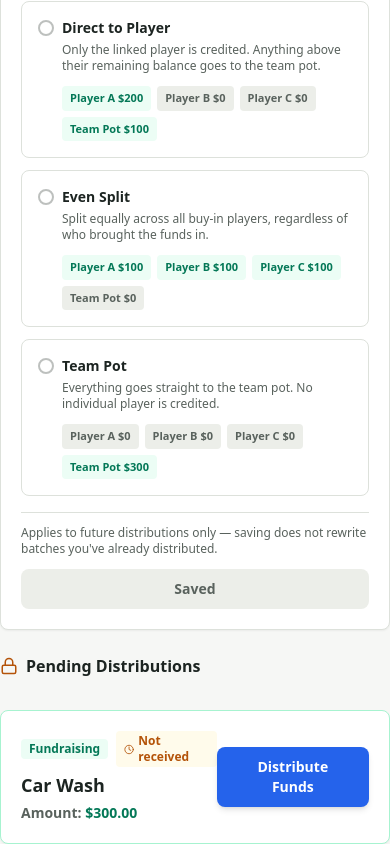
Scenario: SponsorsView manual split › fills a player up to what they still owe, capped by the remainder
(page scrolled)
Step 1. Click the button "Distribute Funds" → (293, 777), box 217,747 -> 369,807
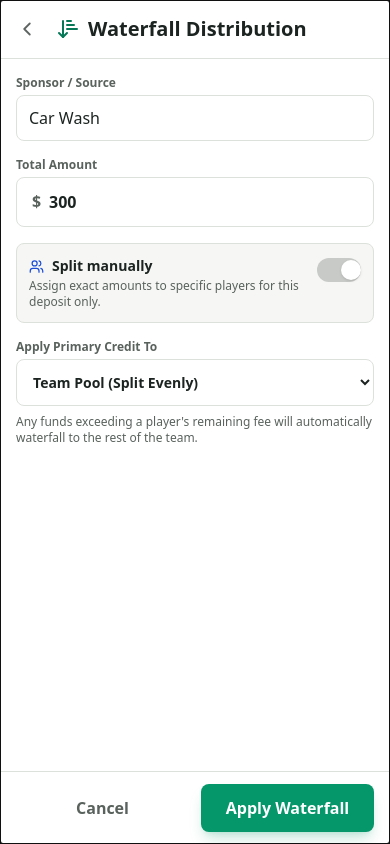
Step 2. Click the switch named "Split manually" → (339, 270), box 317,258 -> 361,282
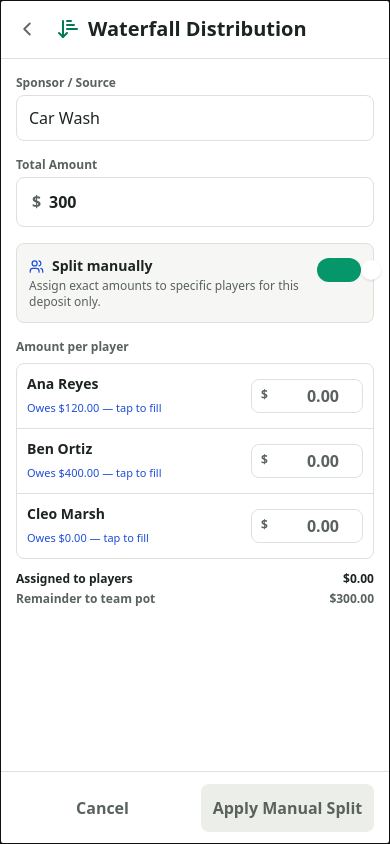
Step 3. Click the button "Owes $120.00 — tap to fill" → (94, 408), box 27,400 -> 162,416
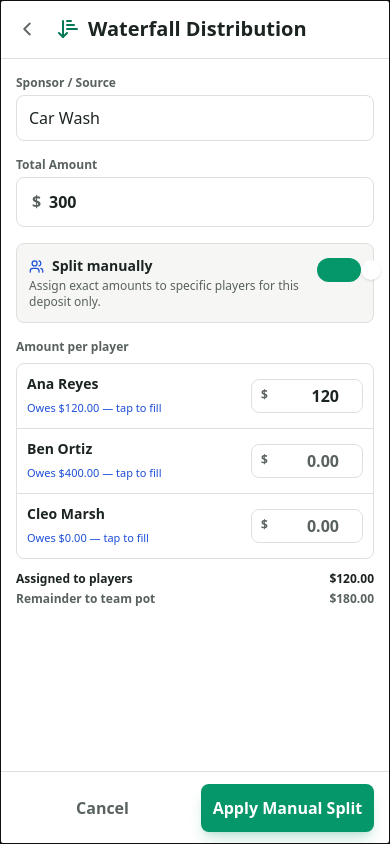
expect the number field named "Ana Reyes" holds "120": met, box 251,379 -> 363,413
Step 4. Click the button "Owes $400.00 — tap to fill" → (94, 473), box 27,465 -> 162,482
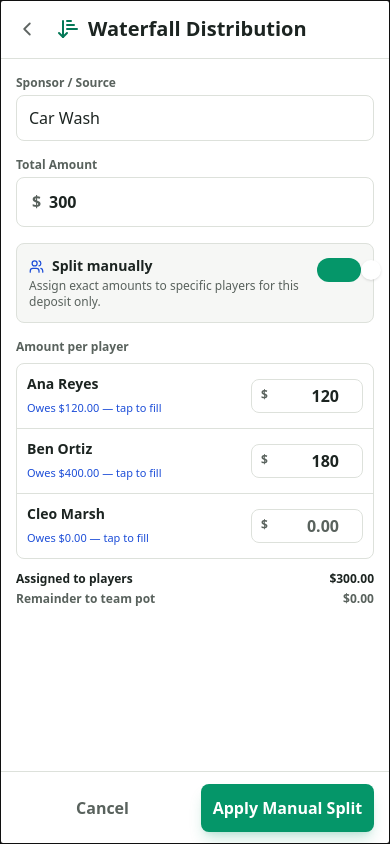
expect the number field named "Ben Ortiz" holds "180": met, box 251,444 -> 363,478
